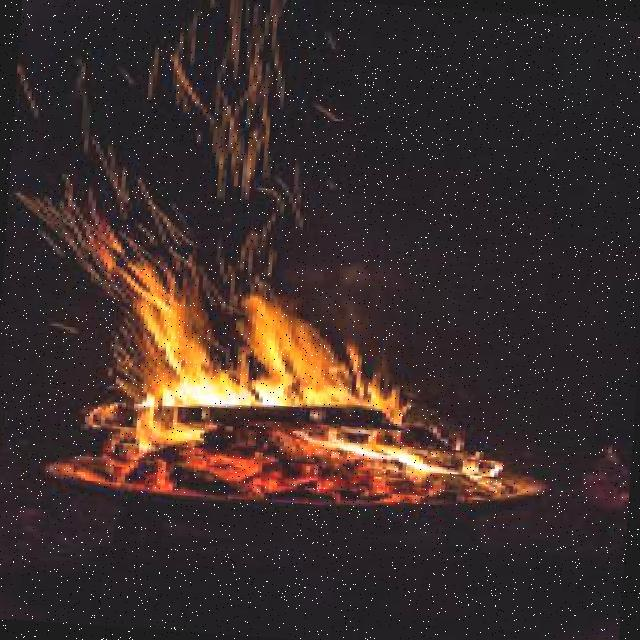Fire: (96, 287, 483, 489)
